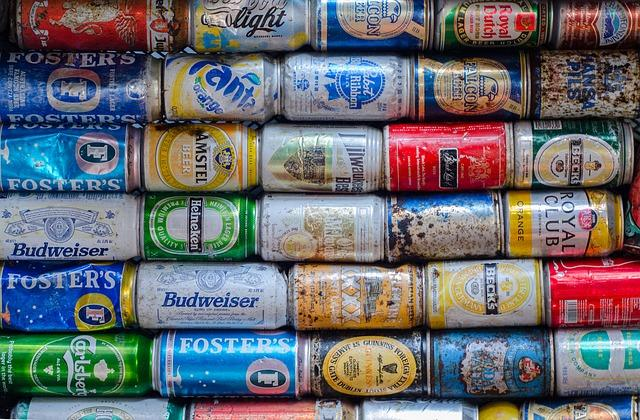metal: (0, 51, 162, 121), (149, 327, 306, 398), (0, 331, 151, 402), (0, 188, 141, 261), (0, 120, 141, 191), (137, 264, 288, 329), (382, 119, 514, 192), (256, 121, 384, 195), (0, 261, 137, 330), (289, 258, 422, 329), (3, 0, 184, 52), (281, 55, 412, 122), (305, 331, 432, 400), (255, 194, 385, 261), (422, 260, 547, 327), (142, 122, 260, 192), (502, 188, 625, 255), (431, 332, 555, 397), (516, 120, 634, 188), (388, 194, 505, 260), (414, 52, 529, 118), (164, 54, 284, 117), (139, 195, 259, 257), (529, 52, 640, 118), (185, 0, 312, 53), (310, 0, 431, 51), (549, 257, 640, 324), (429, 0, 546, 50), (555, 328, 640, 395), (544, 0, 640, 50)
